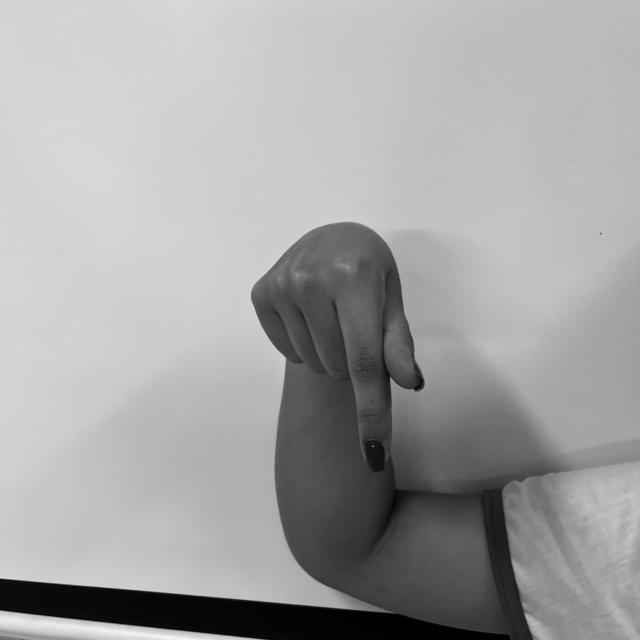Letra Q: (239, 218, 439, 478)
